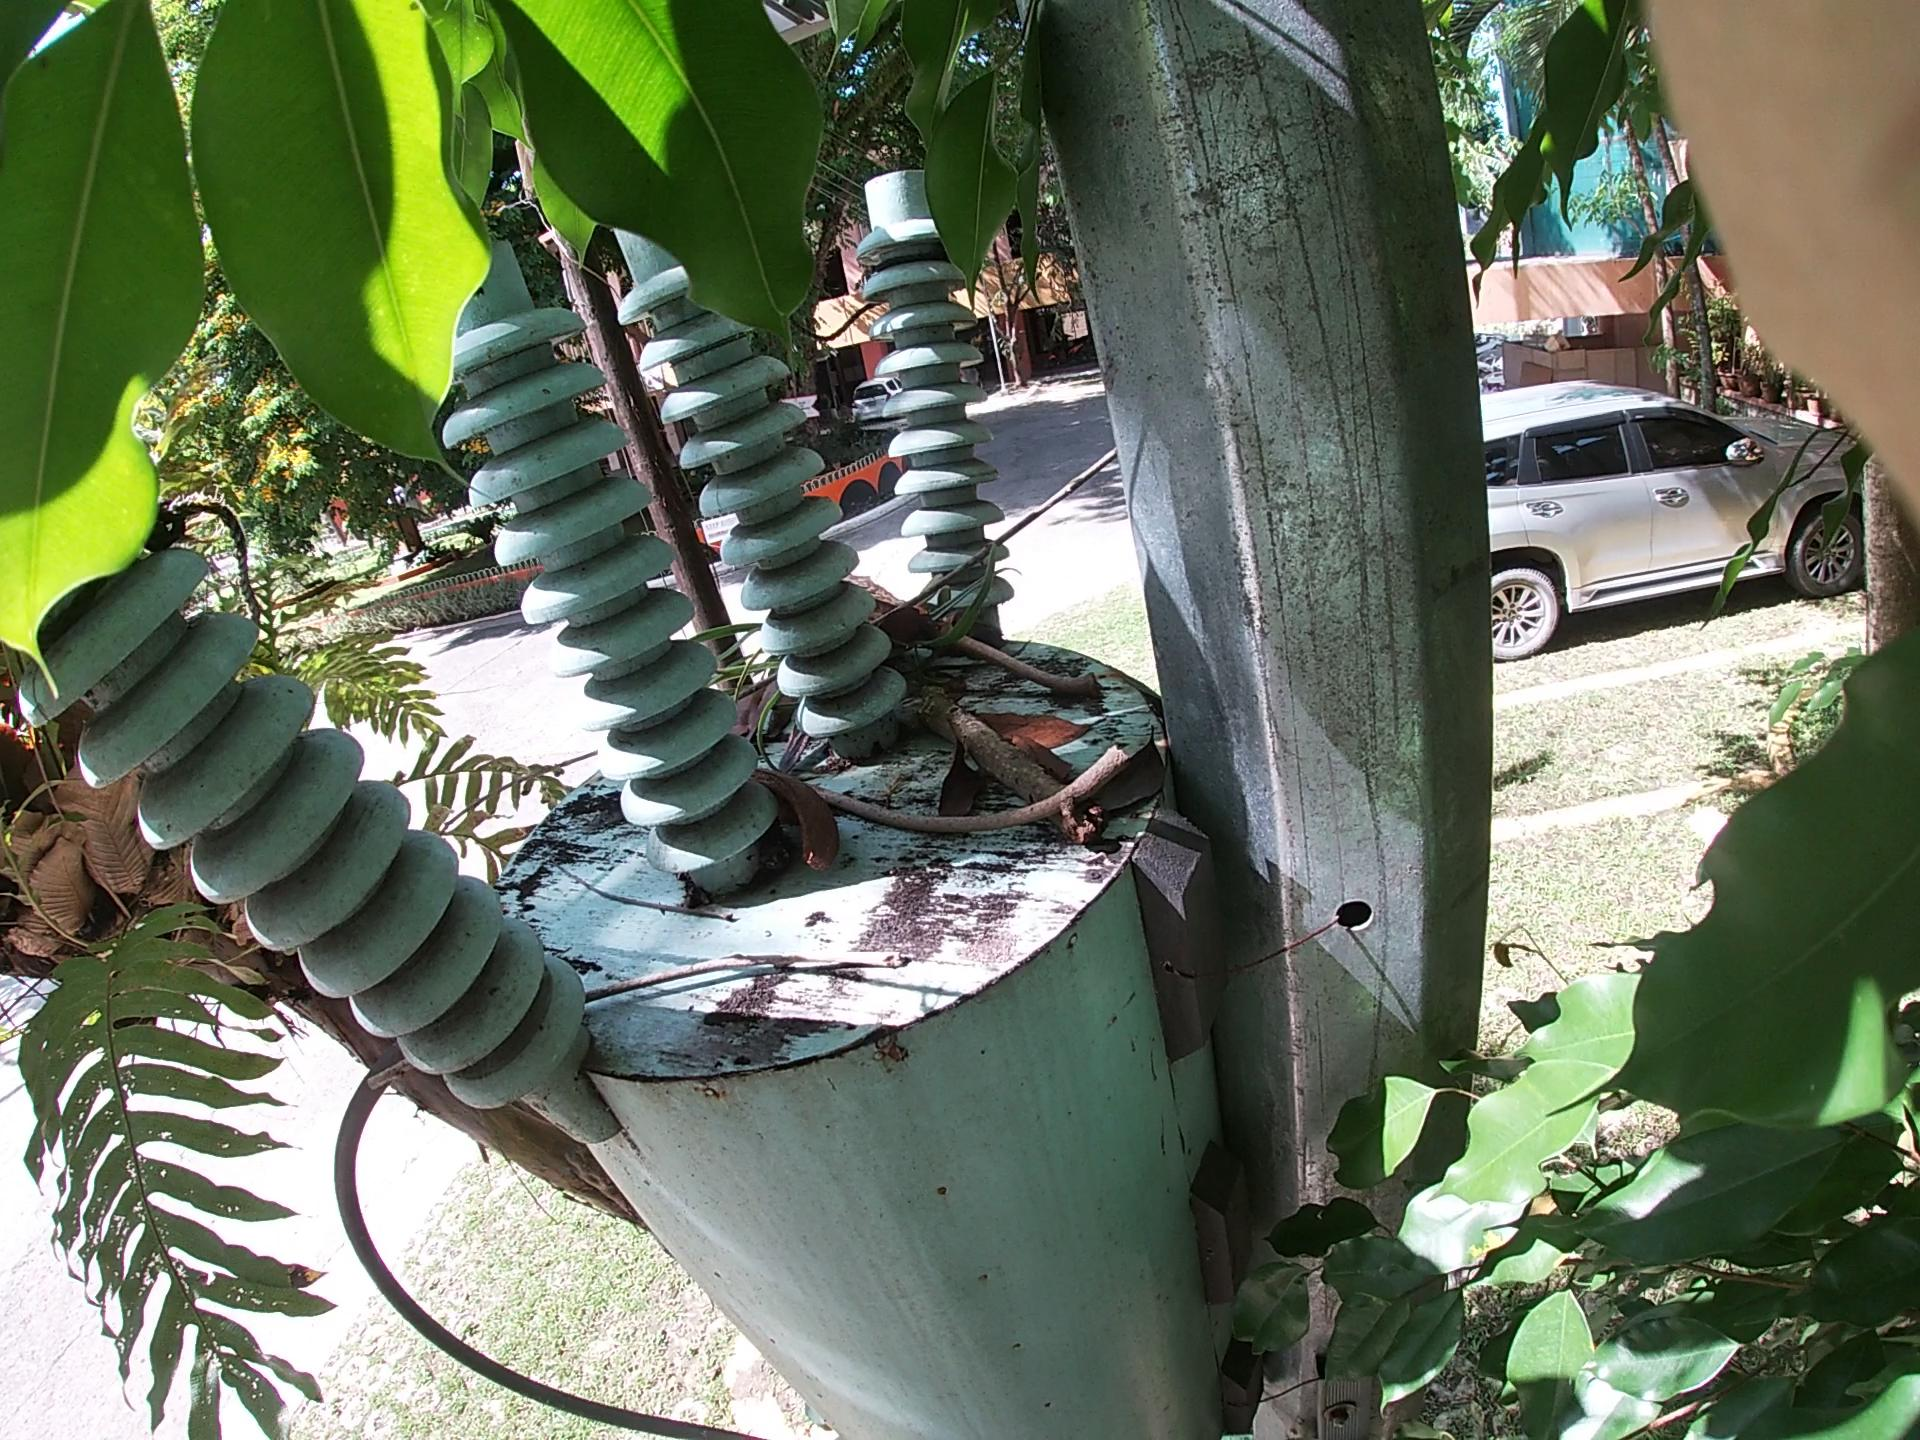branch with leaves: (788, 476, 1157, 891)
leaf: (925, 655, 1082, 897)
tree branch: (711, 455, 1113, 753), (454, 915, 903, 1053), (845, 551, 1225, 702), (721, 734, 1214, 849)
